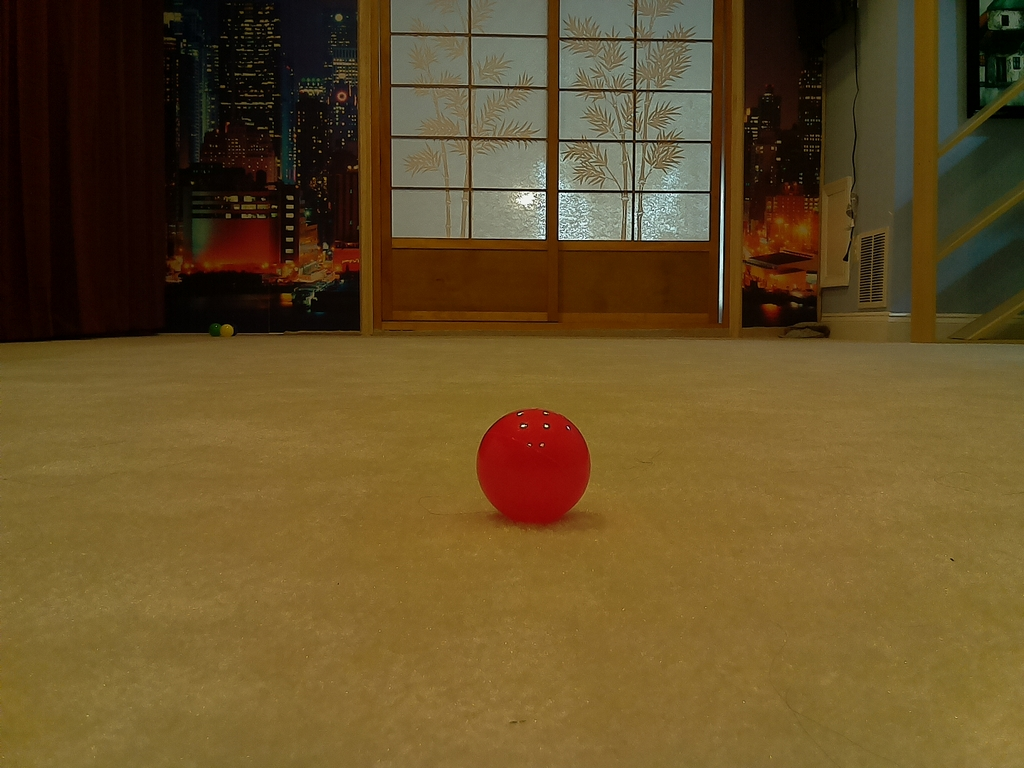ball: (481, 409, 589, 528)
